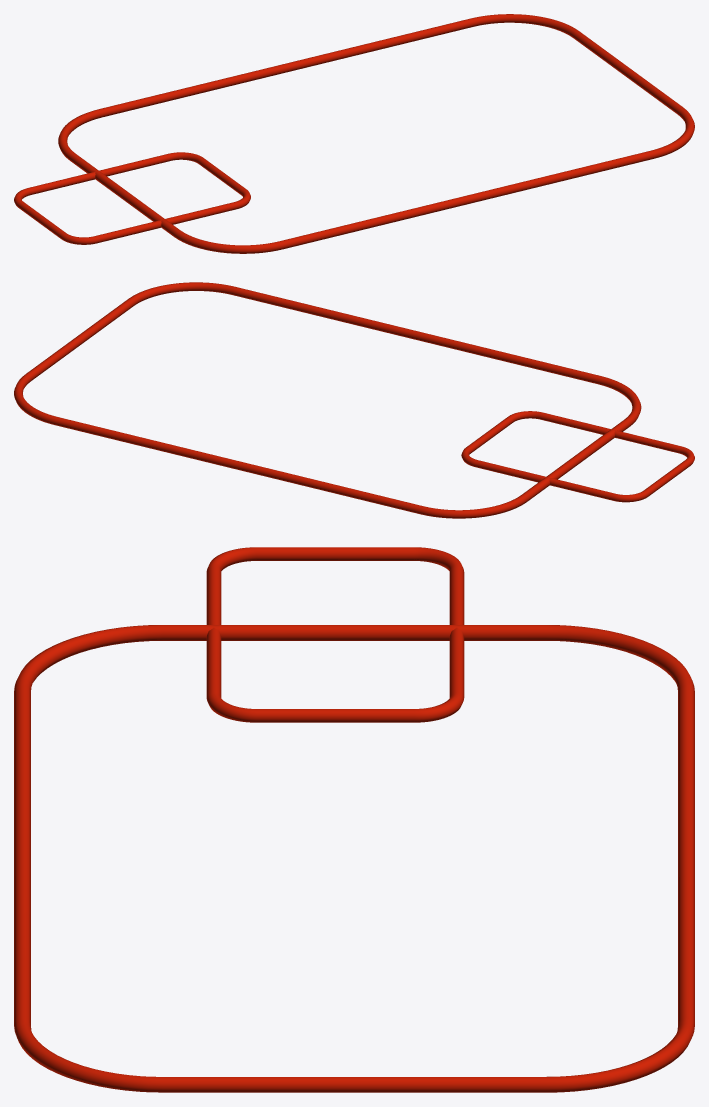
File: cable_2.fbx
3 views of the same model, one above another, from view 1: azimuth 30°, elevation 25°; view 2: azimuth 150°, elevation 25°; view 3: azimuth 270°, elevation 25° (orthographic). The views are drawn at different scales.
Parts seen in each view (by area): view 1: Sweep, Sweep_2; view 2: Sweep, Sweep_2; view 3: Sweep, Sweep_2.
Boxes of the visible parts, <box> form: Sweep: <box>58,14,694,253</box>; Sweep_2: <box>14,152,250,244</box>; Sweep: <box>14,282,641,518</box>; Sweep_2: <box>461,411,694,502</box>; Sweep: <box>14,625,694,1092</box>; Sweep_2: <box>206,547,464,722</box>.
Bounding box in the file's own units: 209 × 2.78 × 112.
